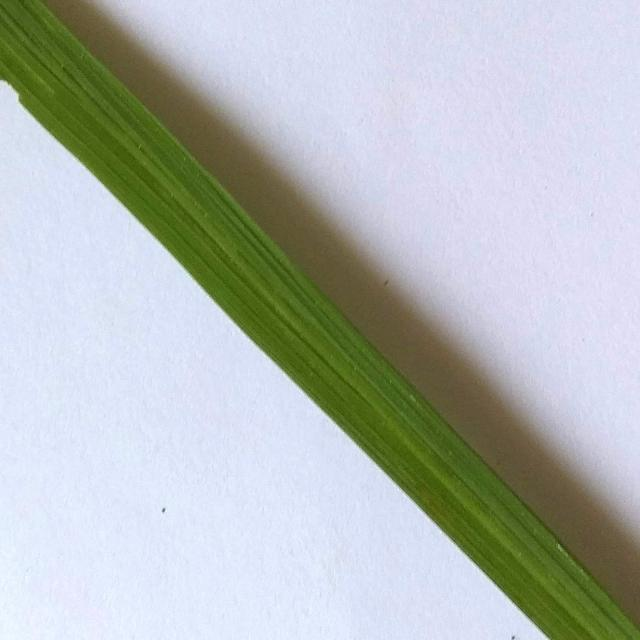healthy: (0, 0, 638, 640)
